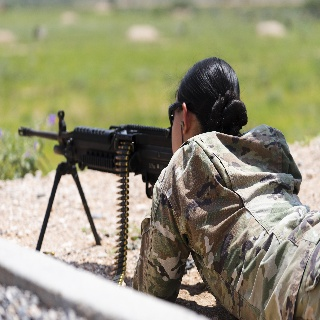rifle: (17, 110, 172, 252)
